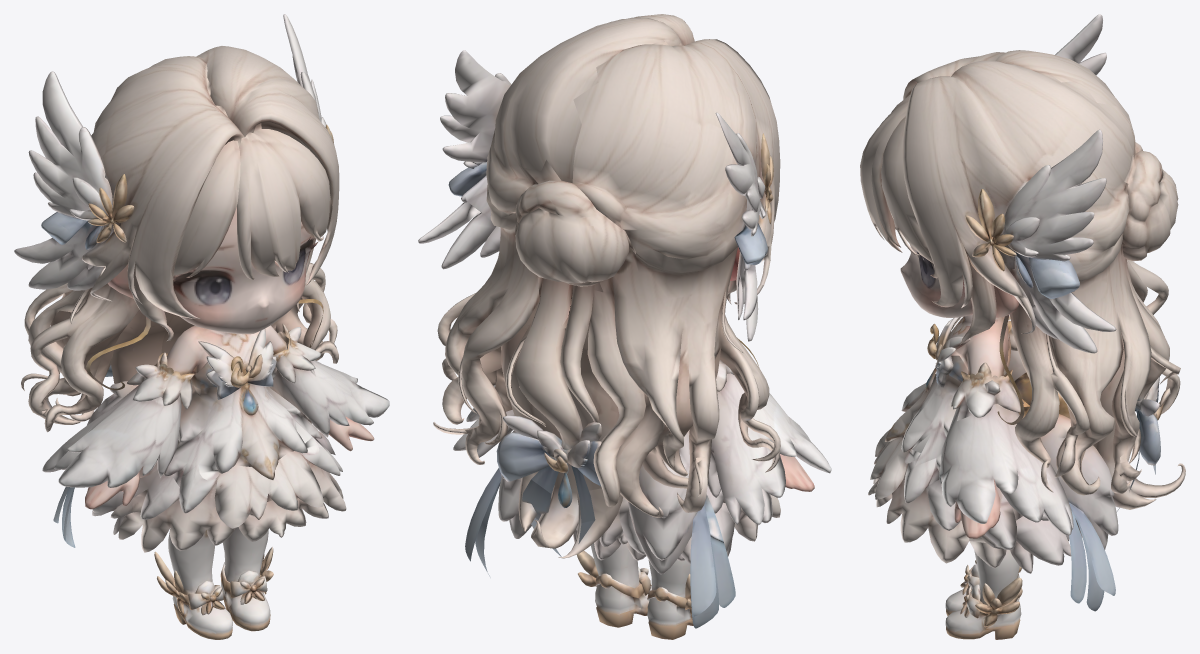
The model's file is source.glb.
The picture shows the model from 3 angles, left to right: view 1: azimuth 30°, elevation 25°; view 2: azimuth 150°, elevation 25°; view 3: azimuth 270°, elevation 25°; orthographic projection. The views are drawn at different scales.
Visible parts, largest first — view 1: tripo_part_1, tripo_part_0, tripo_part_4, tripo_part_19, tripo_part_9, tripo_part_15, tripo_part_2, tripo_part_14, tripo_part_22, tripo_part_3, tripo_part_39, tripo_part_33 (+16 smaller); view 2: tripo_part_1, tripo_part_0, tripo_part_13, tripo_part_8, tripo_part_9, tripo_part_23, tripo_part_21, tripo_part_18, tripo_part_44, tripo_part_27, tripo_part_7, tripo_part_2 (+17 smaller); view 3: tripo_part_0, tripo_part_3, tripo_part_23, tripo_part_1, tripo_part_8, tripo_part_19, tripo_part_4, tripo_part_14, tripo_part_24, tripo_part_27, tripo_part_45, tripo_part_15 (+20 smaller).
Boxes of the visible parts, x1,y1,x2,y2 form: tripo_part_1: (21, 56, 244, 432); tripo_part_0: (161, 46, 339, 363); tripo_part_4: (166, 207, 318, 375); tripo_part_19: (163, 362, 321, 487); tripo_part_9: (42, 384, 181, 487); tripo_part_15: (237, 132, 301, 279); tripo_part_2: (28, 71, 112, 220); tripo_part_14: (110, 459, 346, 552); tripo_part_22: (179, 446, 340, 528); tripo_part_3: (270, 360, 389, 437); tripo_part_39: (173, 140, 240, 277); tripo_part_33: (253, 123, 332, 241); tripo_part_1: (558, 39, 780, 558); tripo_part_0: (433, 14, 694, 464); tripo_part_13: (505, 277, 603, 450); tripo_part_8: (515, 160, 635, 286); tripo_part_9: (707, 373, 831, 524); tripo_part_23: (440, 50, 511, 168); tripo_part_21: (628, 430, 697, 574); tripo_part_18: (501, 302, 601, 548); tripo_part_44: (690, 494, 735, 628); tripo_part_27: (418, 175, 500, 269); tripo_part_7: (496, 432, 601, 486); tripo_part_2: (715, 112, 766, 236); tripo_part_0: (902, 60, 1151, 495); tripo_part_3: (939, 403, 1073, 535); tripo_part_23: (1002, 129, 1106, 261); tripo_part_1: (903, 50, 1180, 479); tripo_part_8: (1122, 150, 1178, 261); tripo_part_19: (885, 334, 1011, 484); tripo_part_4: (900, 244, 1008, 377); tripo_part_14: (868, 464, 1069, 573); tripo_part_24: (1018, 406, 1118, 549); tripo_part_27: (1011, 252, 1116, 353); tripo_part_45: (1069, 502, 1115, 611); tripo_part_15: (860, 101, 908, 252).
Size of the model in its own units: 0.6268 by 1 by 0.5232.
Materials: 1 (1 with a texture image).
